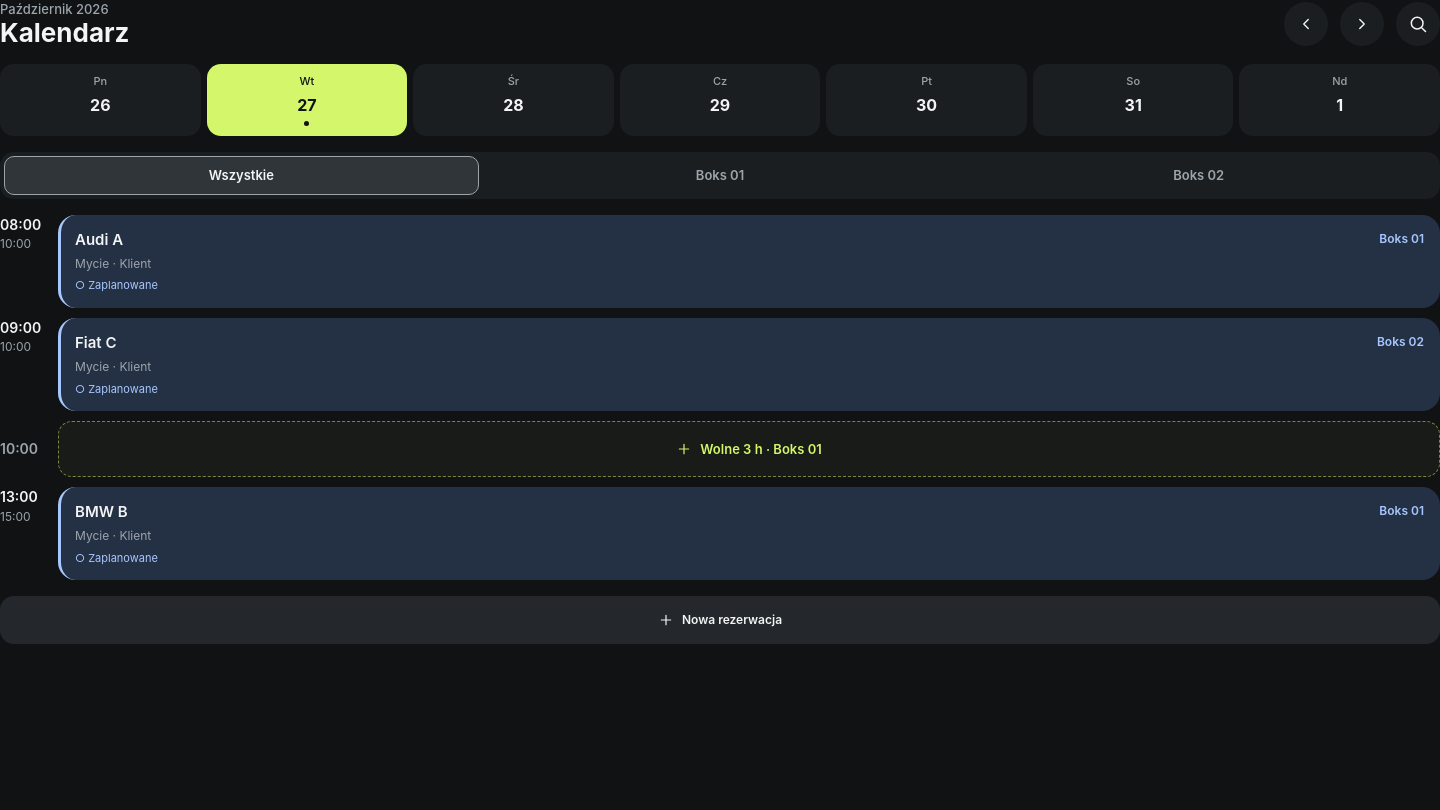
Scenario: opens the same prefilled new-order form from the free window on mobile
This screenshot has width=1440, height=810.
Step 1. Click the button "Wolne 3 h · Boks 01" → (749, 449), box [58,421,1439,477]
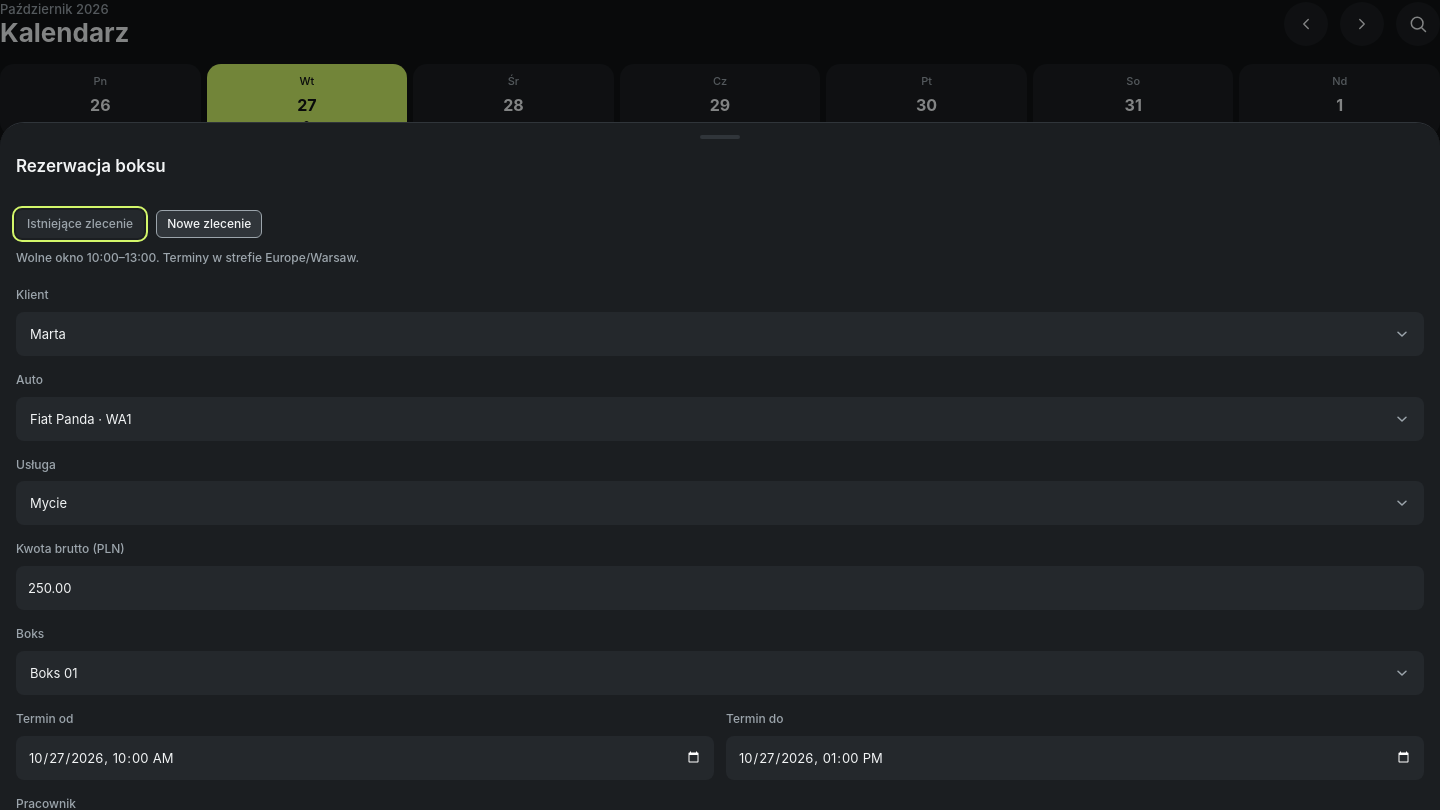
Result: the field labelled "Termin od" holds "2026-10-27T10:00" at [16,736,714,780]
Result: the field labelled "Termin do" holds "2026-10-27T13:00" at [726,736,1424,780]
